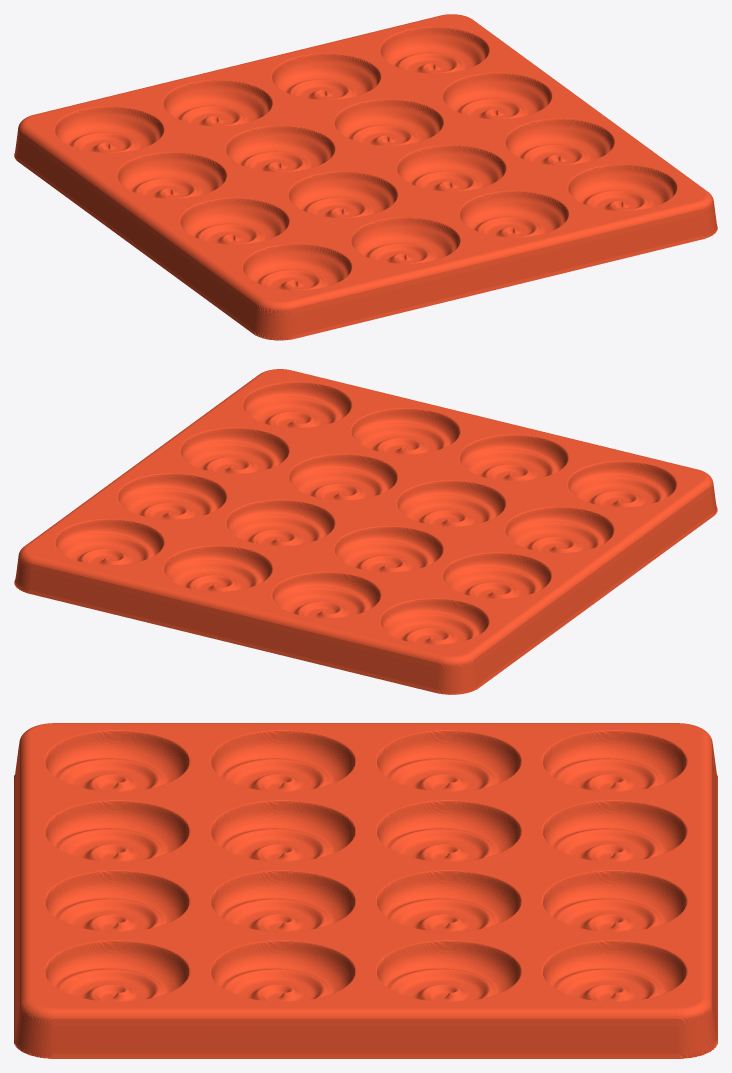
Rendered from mold.glb.
The picture shows the model from 3 angles, top to bottom: view 1: azimuth 30°, elevation 25°; view 2: azimuth 150°, elevation 25°; view 3: azimuth 270°, elevation 25°; orthographic projection. The views are drawn at different scales.
Visible parts, largest first — view 1: geometry_0; view 2: geometry_0; view 3: geometry_0.
Part boxes in pixels (x1,y1,x2,y2): geometry_0: (14,14,717,340); geometry_0: (14,369,717,694); geometry_0: (14,723,717,1058).
Size of the model in its own units: 0.1569 by 0.0108 by 0.1569.
